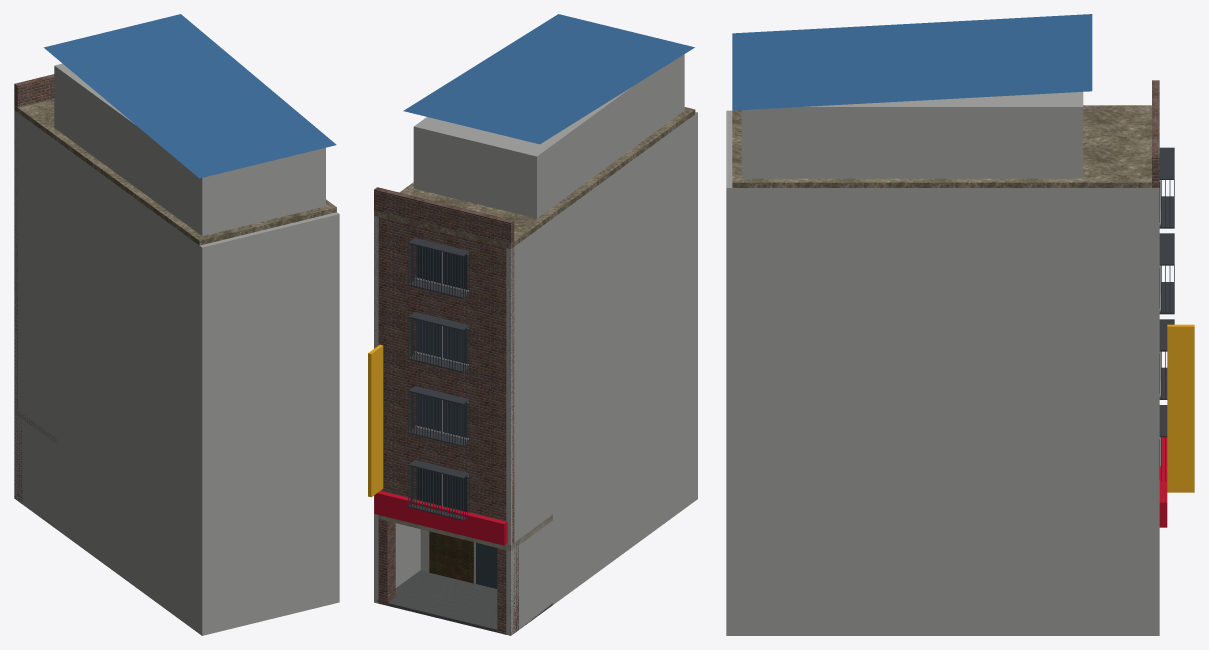
Rendered from street-house-a.glb.
3 renders of one model, left to right at view 1: azimuth 30°, elevation 25°; view 2: azimuth 150°, elevation 25°; view 3: azimuth 270°, elevation 25°, orthographic. The views are drawn at different scales.
Parts seen in each view (by area): view 1: StreetHouseA; view 2: StreetHouseA; view 3: StreetHouseA.
Boxes of the visible parts, x1,y1,x2,y2 form: StreetHouseA: (14,14,339,635); StreetHouseA: (368,14,697,635); StreetHouseA: (726,14,1194,635).
Size of the model in its own units: 6 by 19.7 by 15.35.
16 materials, 5 textured.
